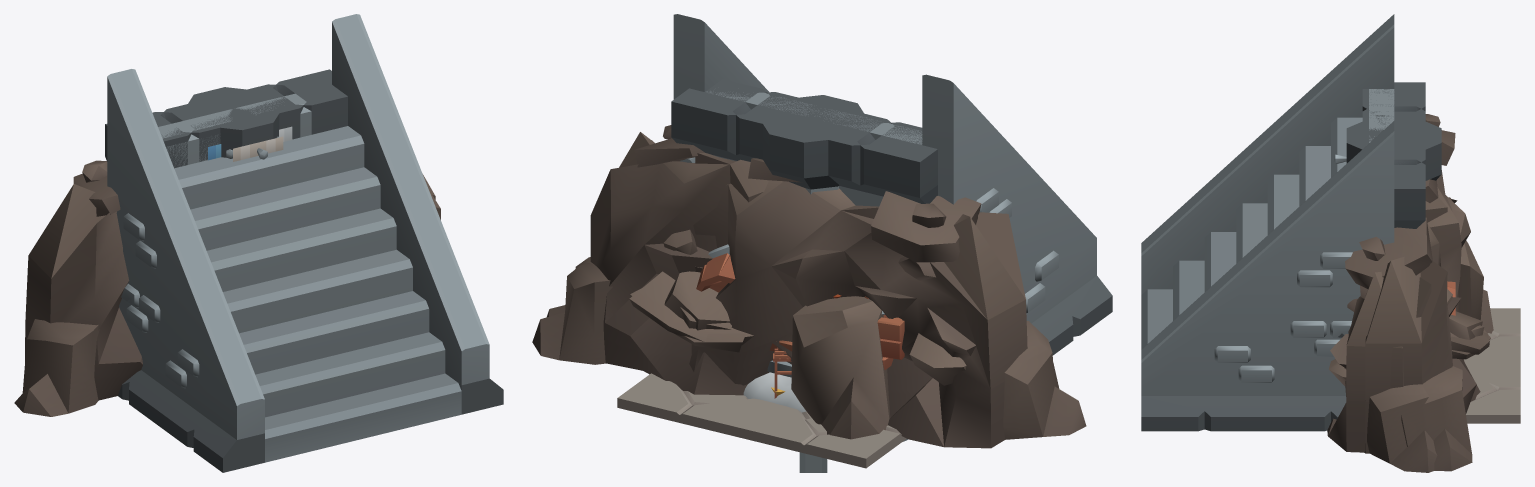
File: env.glb
The picture shows the model from 3 angles, left to right: view 1: azimuth 30°, elevation 25°; view 2: azimuth 150°, elevation 25°; view 3: azimuth 270°, elevation 25°; orthographic projection. The views are drawn at different scales.
Parts seen in each view (by area): view 1: stairs, rubble_large, wall_arched, wall_broken, pillar, pillar_decorated; view 2: rubble_large, rubble_half, stairs, wall_arched, floor_tile_large, pillar, wall_broken, keg_decorated, cloud_big, floor_tile_large_rocks; view 3: stairs, rubble_half, rubble_large, floor_tile_large, wall_arched, pillar, wall_broken, floor_tile_large_rocks.
Boxes of the visible parts, x1,y1,x2,y2 form: stairs: [107, 14, 503, 472]; rubble_large: [14, 160, 440, 416]; wall_arched: [105, 69, 347, 160]; wall_broken: [105, 70, 346, 168]; pillar: [188, 87, 279, 158]; pillar_decorated: [233, 136, 283, 161]; rubble_large: [547, 140, 1086, 448]; rubble_half: [532, 125, 768, 395]; stairs: [673, 14, 1112, 355]; wall_arched: [671, 82, 937, 206]; floor_tile_large: [617, 373, 906, 468]; pillar: [763, 95, 863, 194]; wall_broken: [674, 79, 937, 204]; keg_decorated: [696, 244, 904, 369]; cloud_big: [743, 372, 908, 441]; floor_tile_large_rocks: [688, 391, 825, 435]; stairs: [1141, 14, 1394, 431]; rubble_half: [1345, 198, 1489, 471]; rubble_large: [1327, 114, 1493, 472]; floor_tile_large: [1464, 308, 1520, 423]; wall_arched: [1362, 82, 1425, 228]; pillar: [1346, 121, 1441, 180]; wall_broken: [1362, 83, 1424, 228]; floor_tile_large_rocks: [1469, 334, 1499, 393].
Bounding box in the file's own units: 8.13 × 6.1 × 6.
6 materials, 6 textured.
